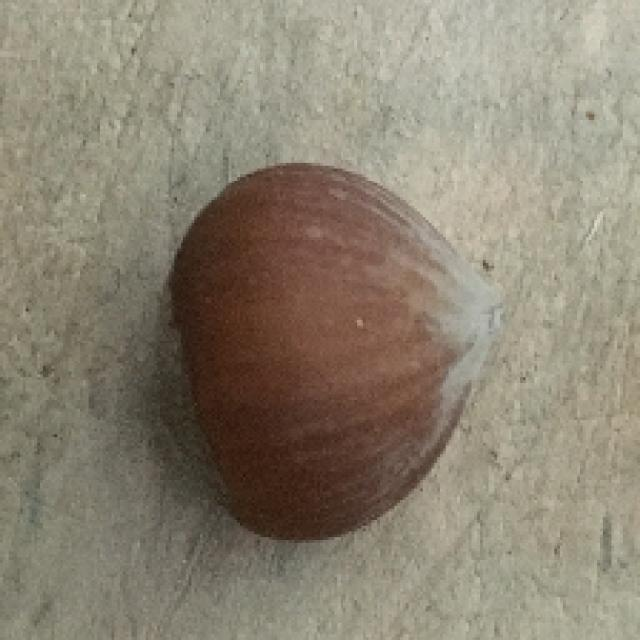QualityHazelnut: (152, 159, 506, 542)
